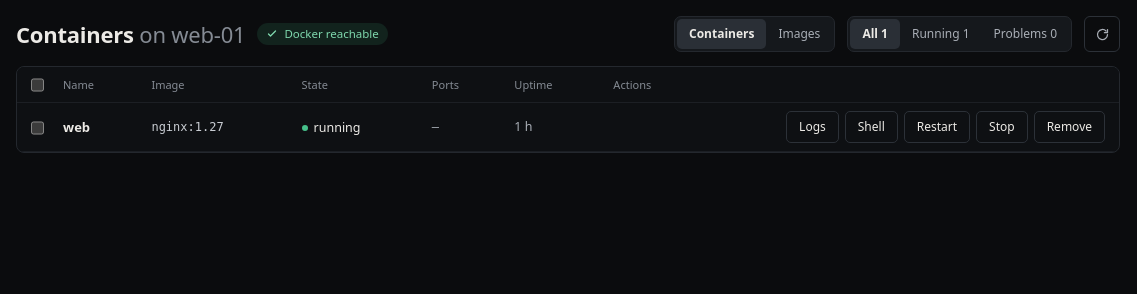
Test case: Docker images › lists images with short ids and the containers using them
The width and height of the screenshot is (1137, 294).
Expected: the text "Docker reachable" is shown, [258,23,388,45]
Step 1. Click the button "Images" → (799, 34), box [766,19,832,49]
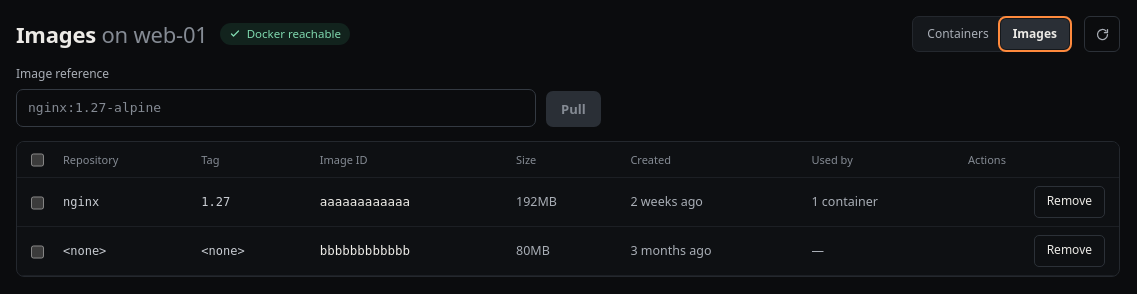
Expected: the text "192MB" is shown, [502,177,616,226]
Expected: the heading "Images on web-01" is shown, [16,19,208,49]
Expected: the text "aaaaaaaaaaaa" is shown, [320,194,410,209]
